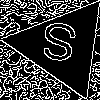S: (37, 21, 80, 71)
